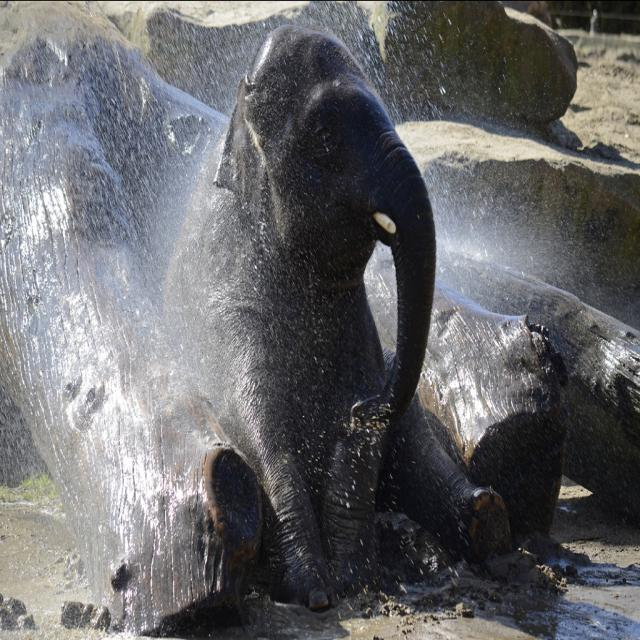elephant: (160, 22, 511, 608)
